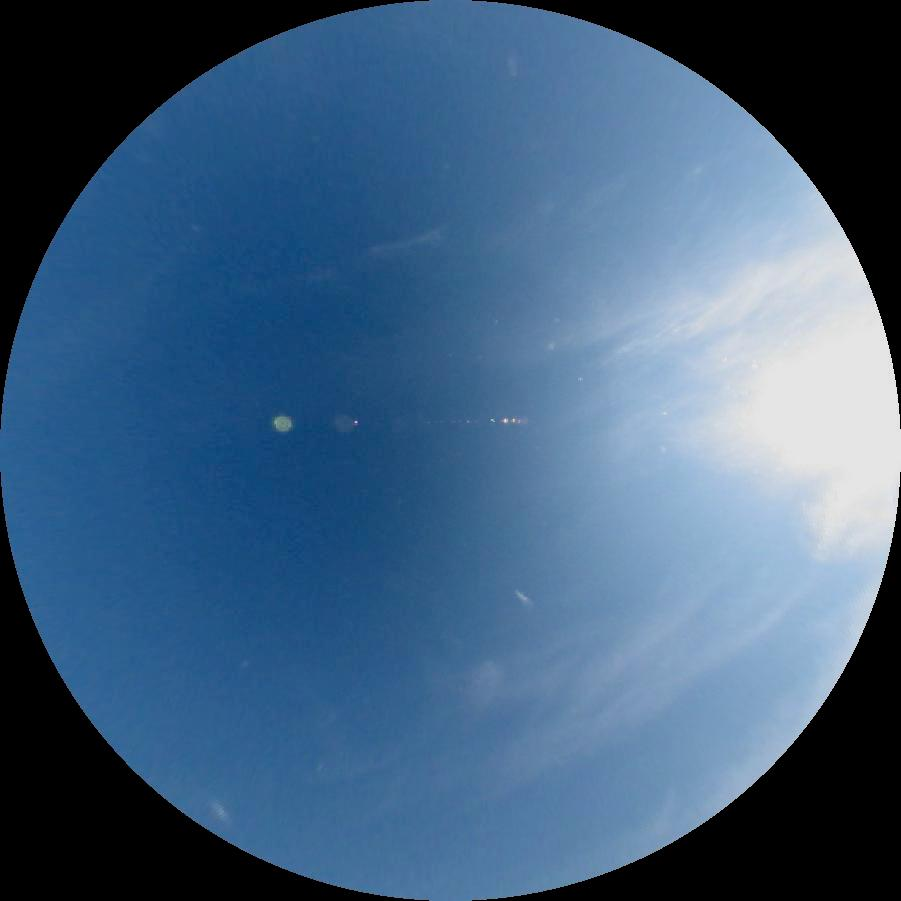sun: (752, 328, 901, 481)
unknow: (516, 590, 530, 604)
